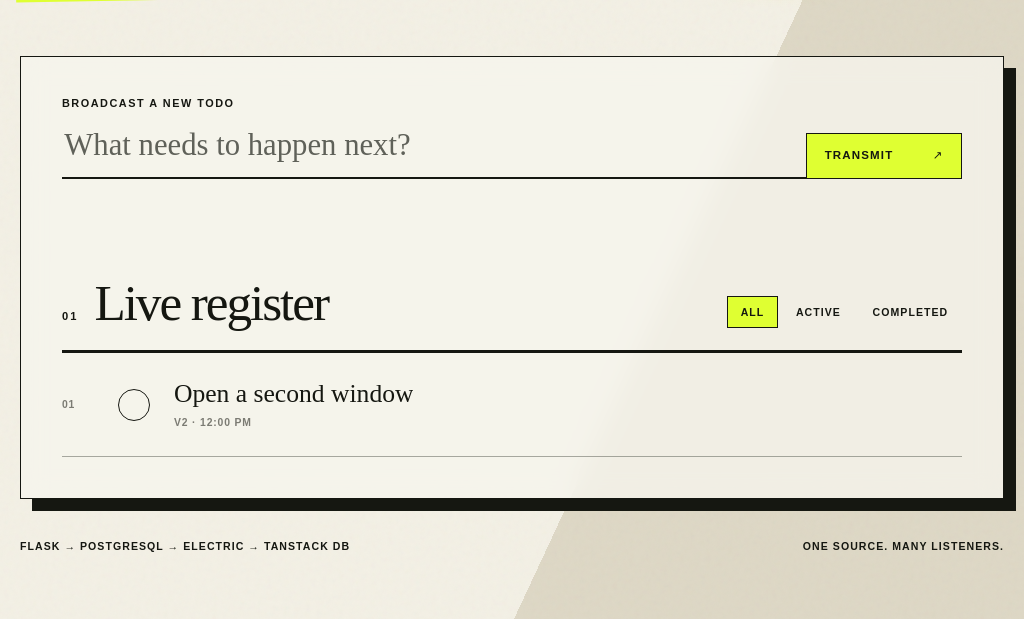
Scenario: live Todo register › discards an inline edit without issuing a command
(page scrolled)
Click the button "Open a second window". click: (294, 394)
box: x1=174 y1=379 x2=414 y2=409
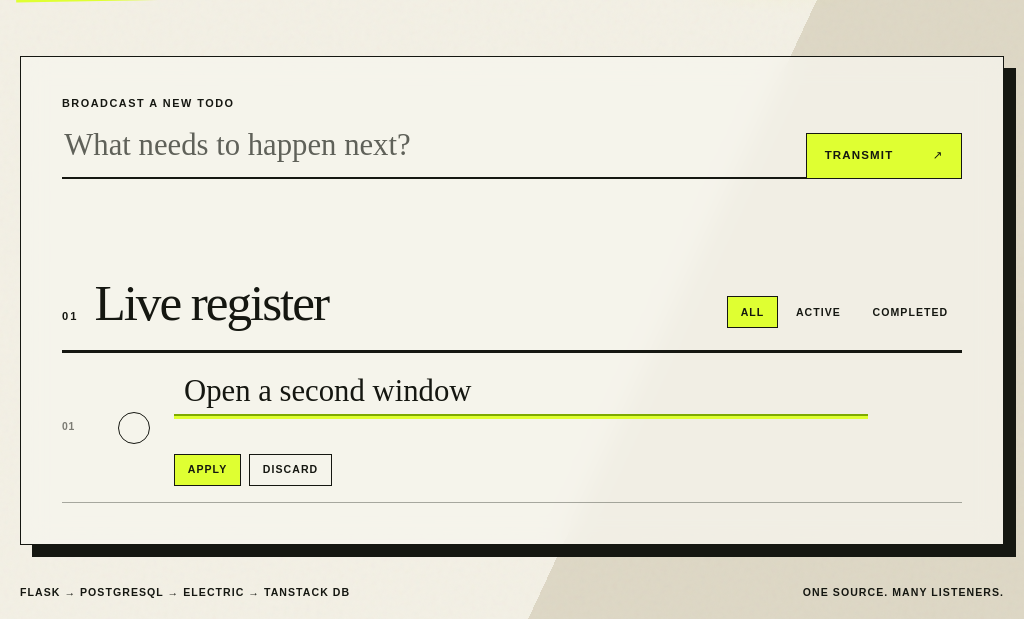
Replace the text in the field named "Edit Todo title" with "Discard this". click: (521, 393)
box: x1=174 y1=369 x2=868 y2=416
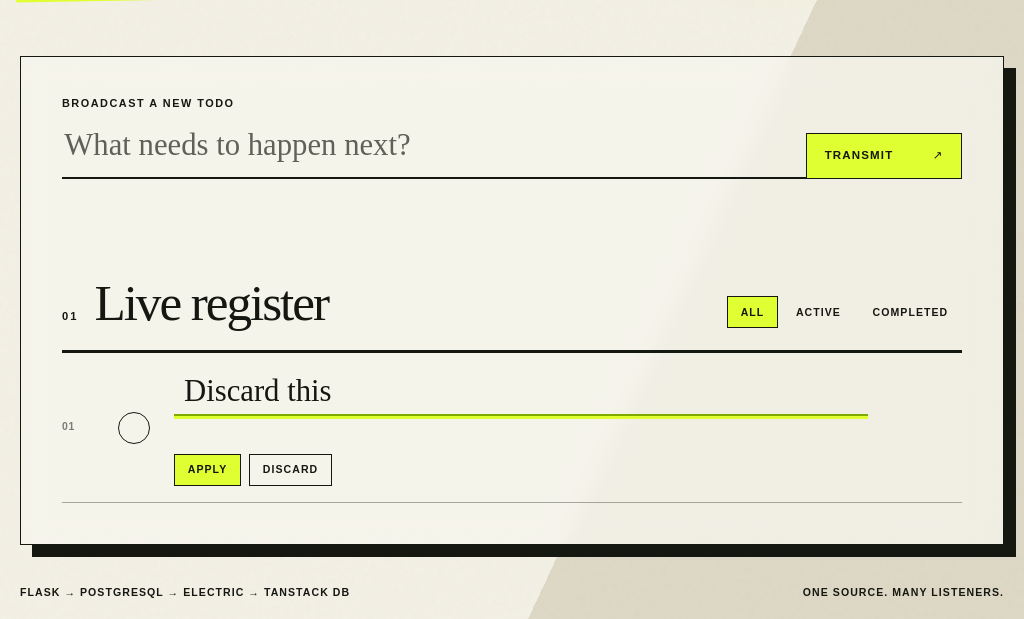
Click the button "Discard". click: (290, 470)
box: x1=249 y1=454 x2=332 y2=486
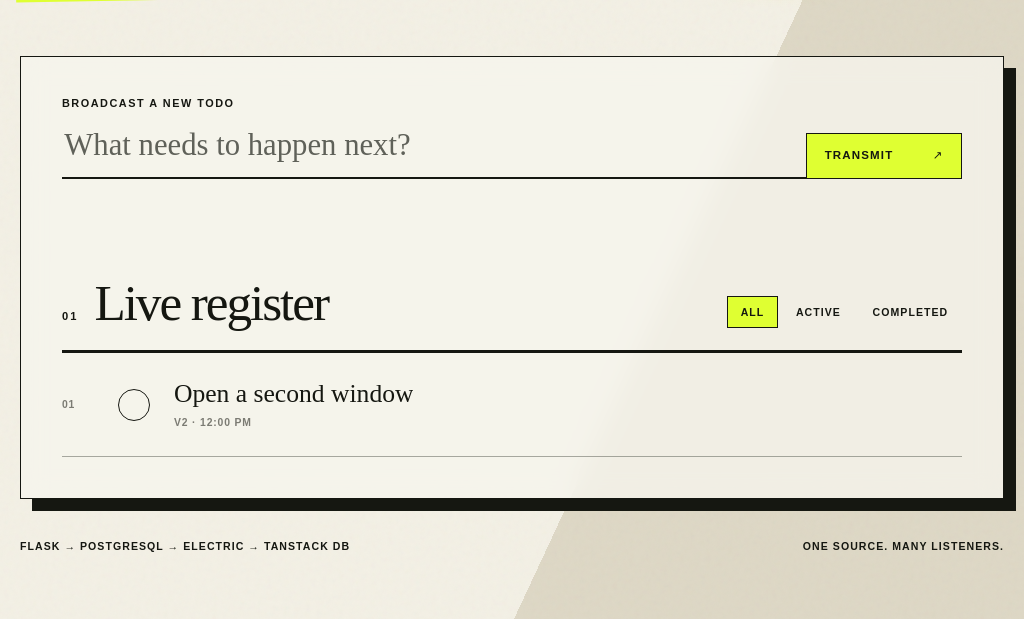
Expected: the button "Open a second window" is shown, x1=174 y1=379 x2=414 y2=409
